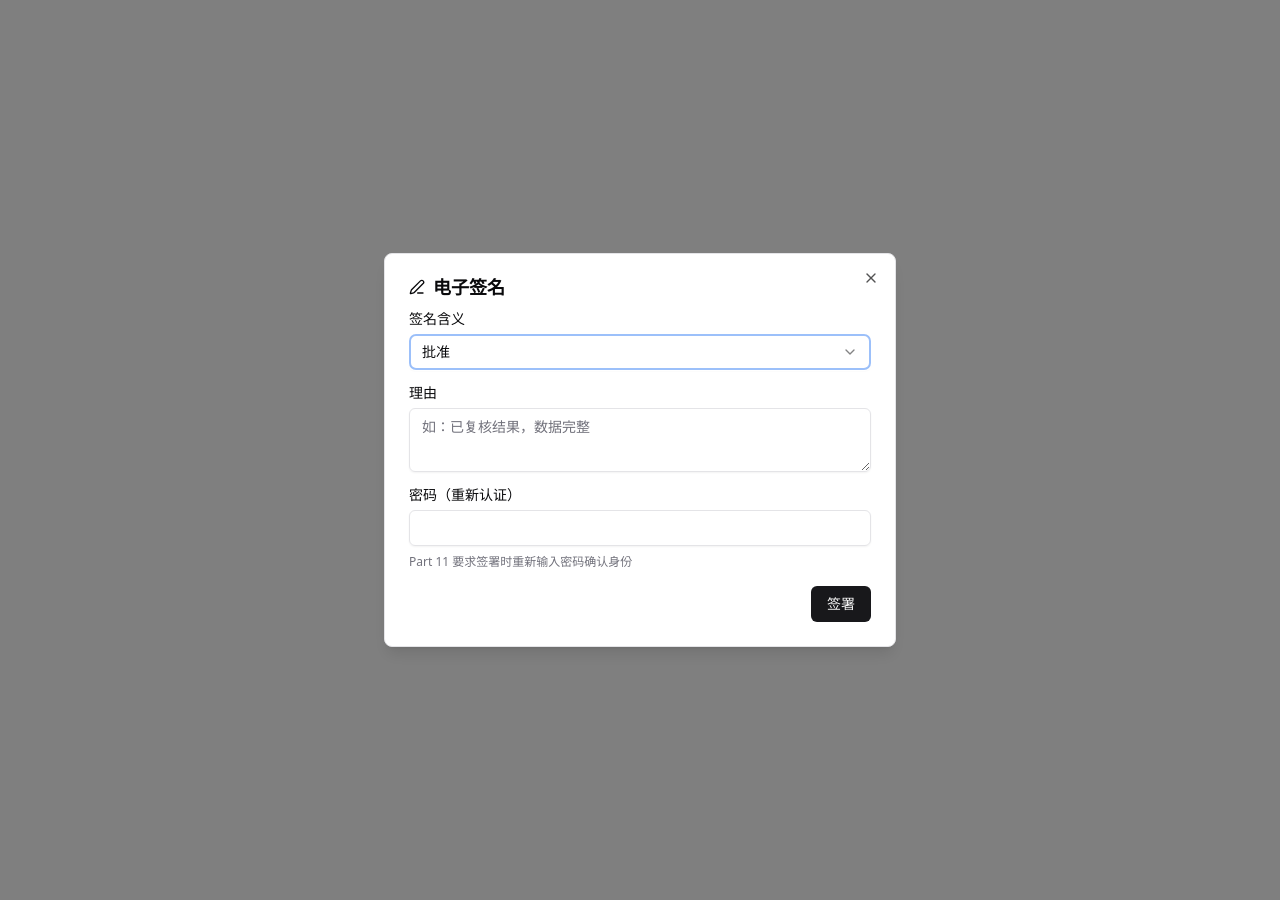
Test: SignDialog › requires reason and password before signing
The image size is (1280, 900).
Click the button "签署" at [841, 604], box 811,586 -> 871,622
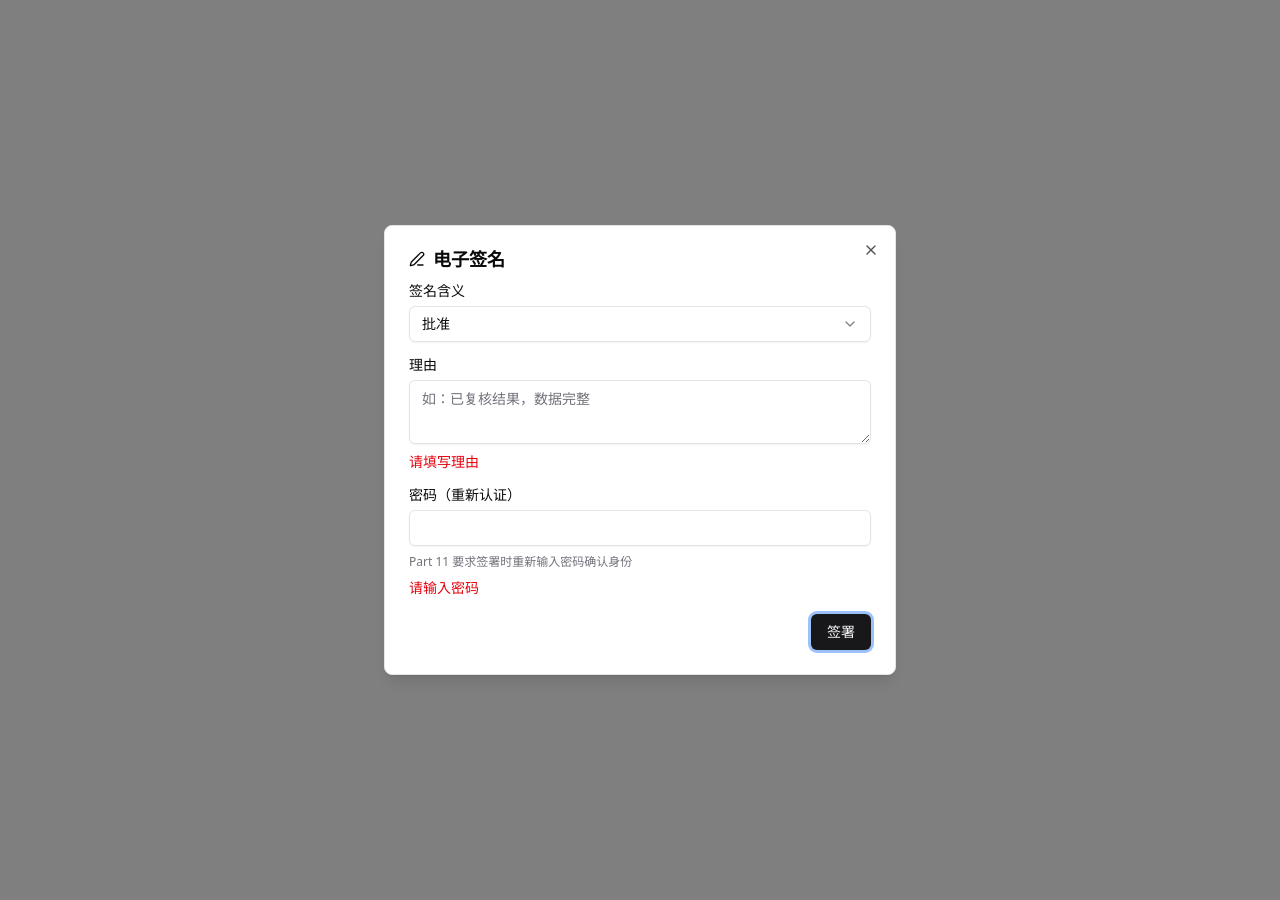
Expected: the text "请填写理由" is shown, 409,452 -> 479,471
Expected: the text "请输入密码" is shown, 409,578 -> 479,597
